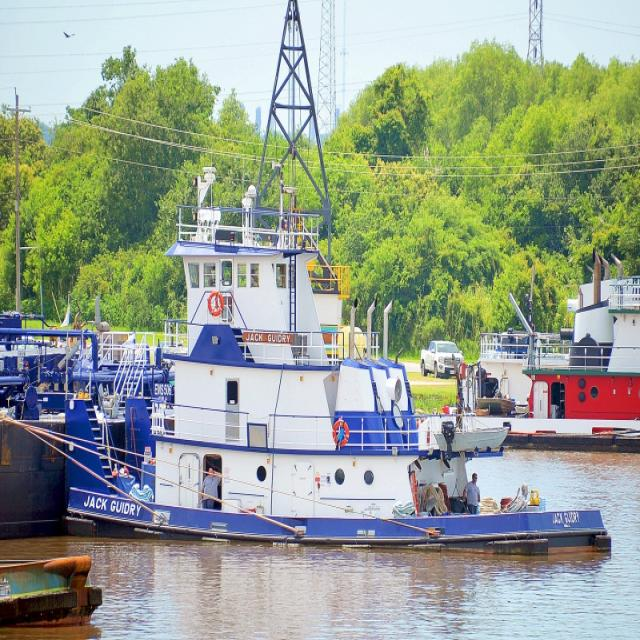tugboat: (58, 161, 616, 575)
